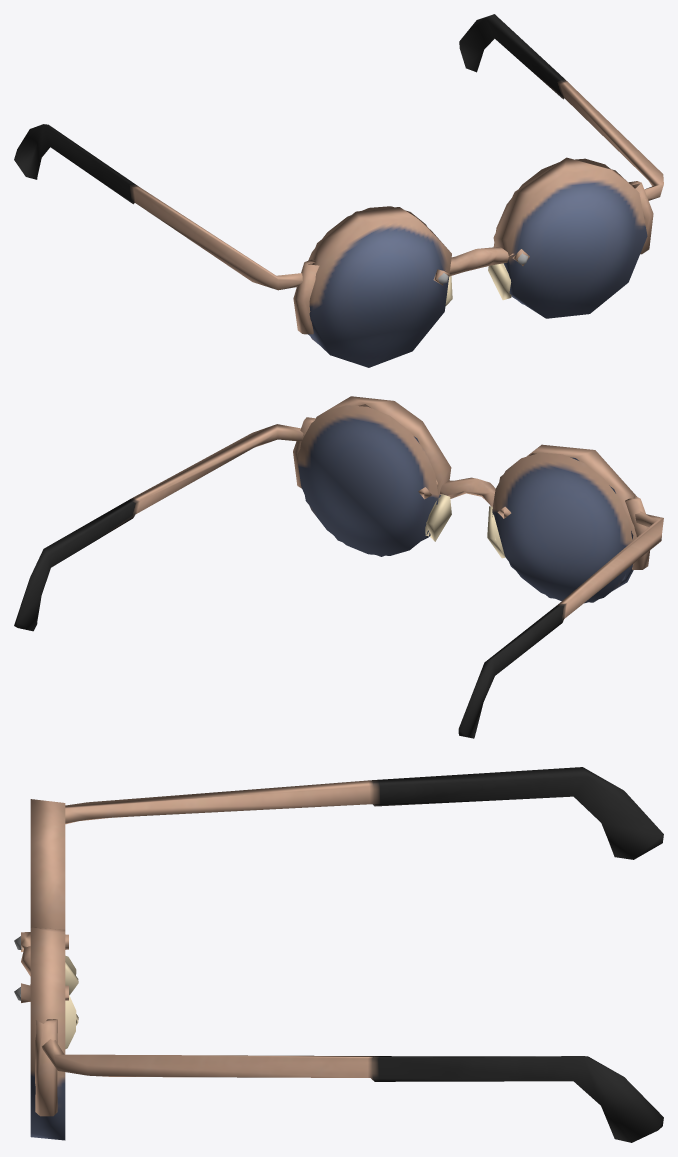
Rendered from f_man_2 1.fbx.
3 renders of one model, top to bottom at view 1: azimuth 30°, elevation 25°; view 2: azimuth 150°, elevation 25°; view 3: azimuth 270°, elevation 25°, orthographic. The views are drawn at different scales.
Visible parts, largest first — view 1: Object_13; view 2: Object_13; view 3: Object_13.
Part boxes in pixels (x1=…): Object_13: x1=14, y1=14, x2=663, y2=367; Object_13: x1=14, y1=396, x2=663, y2=738; Object_13: x1=14, y1=767, x2=663, y2=1142.
Bounding box in the file's own units: 16.45 × 5.2 × 15.58.
